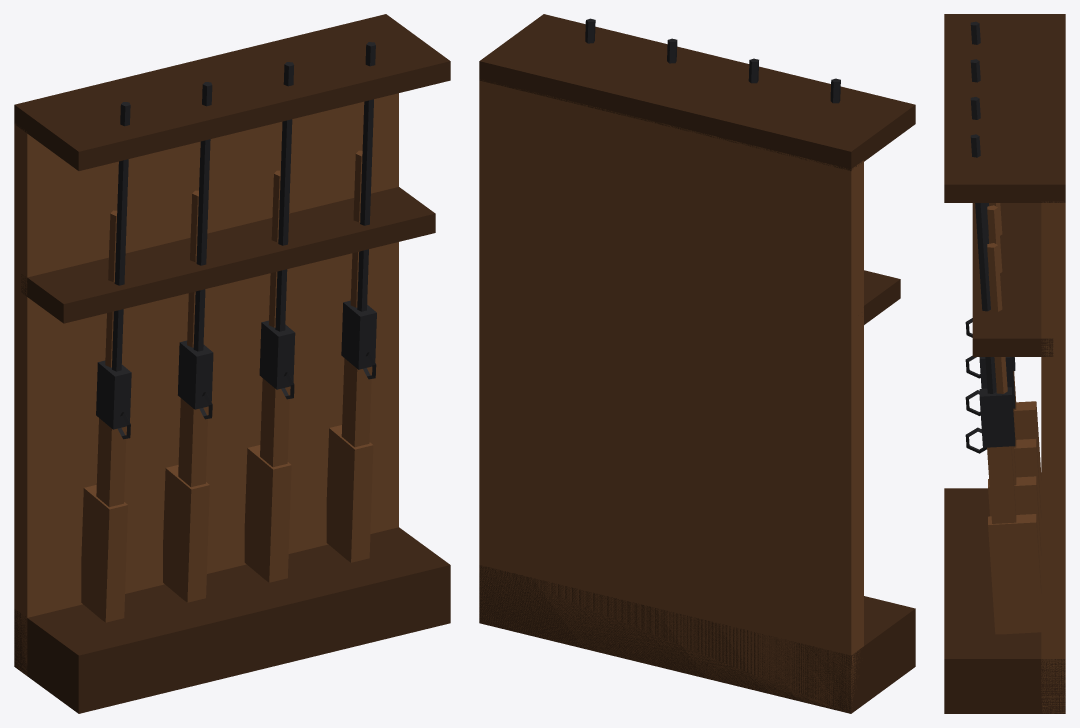
Rendered from SM_Gun_Rack.obj.
3 renders of one model, left to right at view 1: azimuth 30°, elevation 25°; view 2: azimuth 150°, elevation 25°; view 3: azimuth 270°, elevation 25°, orthographic. The views are drawn at different scales.
Parts seen in each view (by area): view 1: SM_Gun_Rack; view 2: SM_Gun_Rack; view 3: SM_Gun_Rack.
Part boxes in pixels (box(x1,y1,x2,y2)): SM_Gun_Rack: box(14, 14, 450, 713); SM_Gun_Rack: box(479, 14, 915, 713); SM_Gun_Rack: box(944, 14, 1065, 713).
Size of the model in its own units: 1 by 1.5 by 0.3.
